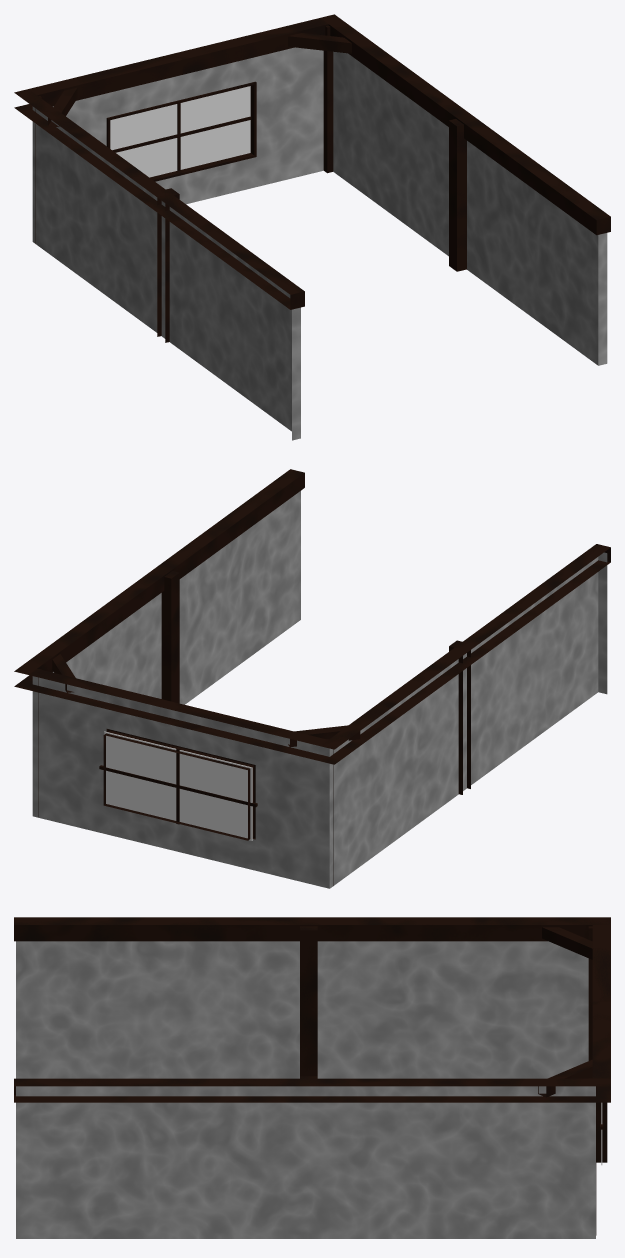
The model's file is shopV5.fbx.
3 renders of one model, top to bottom at view 1: azimuth 30°, elevation 25°; view 2: azimuth 150°, elevation 25°; view 3: azimuth 270°, elevation 25°, orthographic. The views are drawn at different scales.
Parts seen in each view (by area): view 1: Cube, Wood, Window, Framuga; view 2: Cube, Wood, Window, Framuga; view 3: Cube, Wood, Framuga.
Boxes of the visible parts, <box> form: Cube: <box>32,47,607,440</box>; Wood: <box>14,14,610,342</box>; Window: <box>110,86,250,177</box>; Framuga: <box>106,81,256,181</box>; Cube: <box>32,491,607,888</box>; Wood: <box>14,469,610,885</box>; Window: <box>104,731,252,840</box>; Framuga: <box>99,729,257,840</box>; Cube: <box>16,941,595,1238</box>; Wood: <box>14,917,610,1235</box>; Framuga: <box>596,1102,607,1162</box>.
Bounding box in the file's own units: 683 × 300 × 1021.
